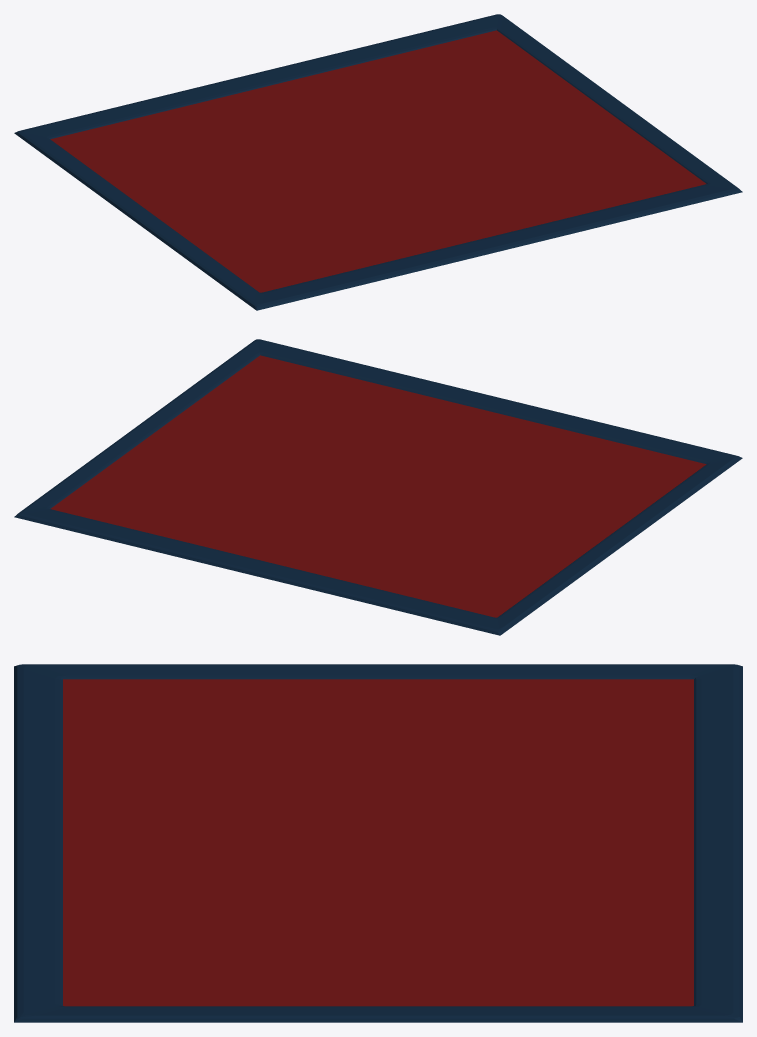
Rendered from carpet.obj.
The picture shows the model from 3 angles, top to bottom: view 1: azimuth 30°, elevation 25°; view 2: azimuth 150°, elevation 25°; view 3: azimuth 270°, elevation 25°; orthographic projection. The views are drawn at different scales.
Parts seen in each view (by area): view 1: floor top, extrudeSide, object 1; view 2: floor top, extrudeSide, object 1; view 3: floor top, extrudeSide, object 1.
Boxes of the visible parts, x1,y1,x2,y2 form: floor top: (50, 30, 705, 292); extrudeSide: (18, 14, 738, 306); object 1: (14, 29, 742, 310); floor top: (51, 355, 706, 617); extrudeSide: (18, 339, 738, 631); object 1: (14, 354, 742, 635); floor top: (63, 679, 693, 1006); extrudeSide: (17, 664, 739, 1018); object 1: (14, 665, 742, 1022).
Size of the model in its own units: 0.532 by 0.00283 by 0.46.
